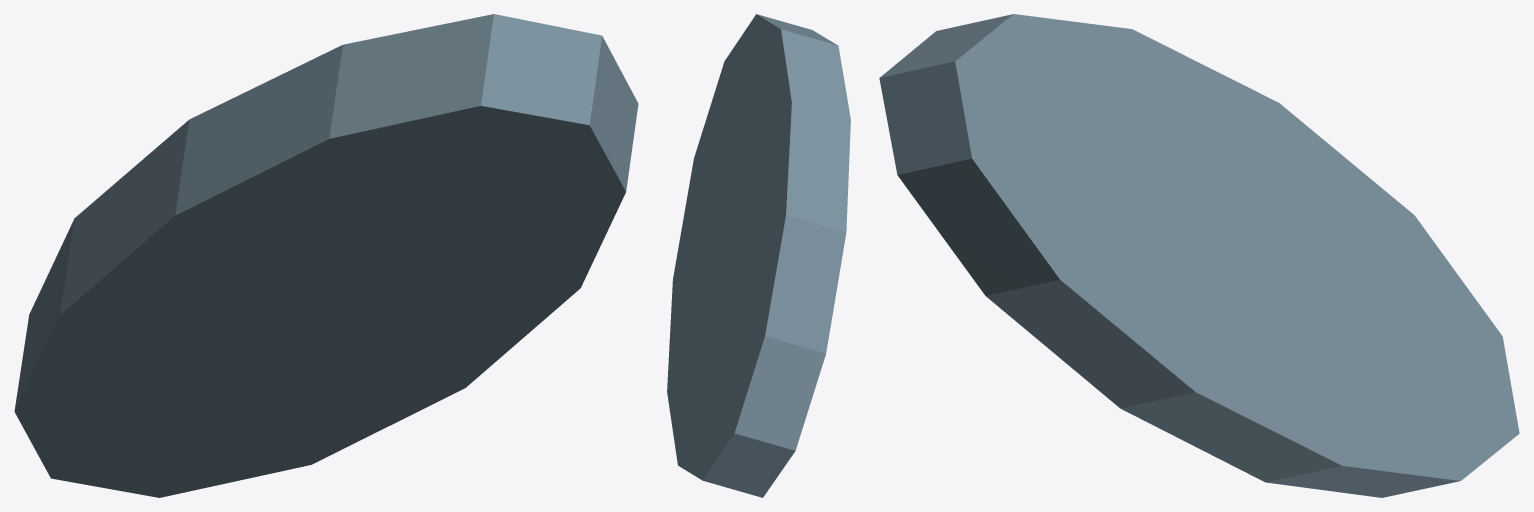
Rendered from astronaut_spawn_group954316612_lev4.glb.
3 views of the same model, side by side, from view 1: azimuth 30°, elevation 25°; view 2: azimuth 150°, elevation 25°; view 3: azimuth 270°, elevation 25° (orthographic). The views are drawn at different scales.
Visible parts, largest first — view 1: astronaut_spawn_group954316612_lev4; view 2: astronaut_spawn_group954316612_lev4; view 3: astronaut_spawn_group954316612_lev4.
Boxes of the visible parts, x1,y1,x2,y2 form: astronaut_spawn_group954316612_lev4: (14, 14, 638, 497); astronaut_spawn_group954316612_lev4: (667, 14, 850, 497); astronaut_spawn_group954316612_lev4: (879, 14, 1519, 497).
Size of the model in its own units: 0.1537 by 0.2323 by 0.2495.
